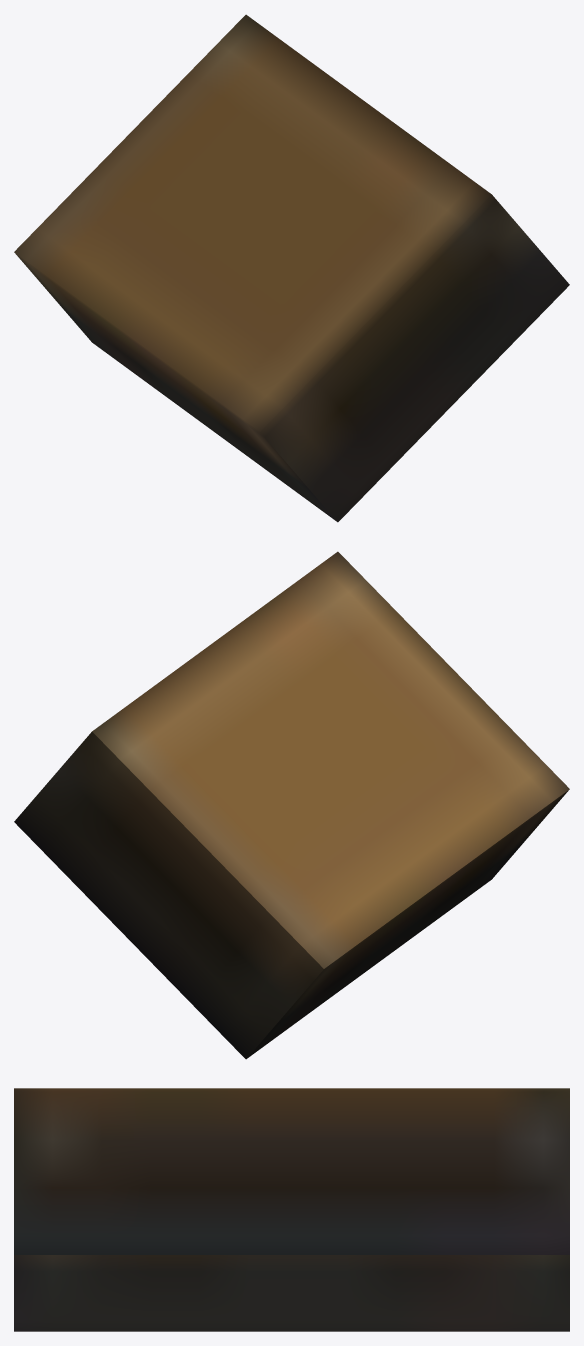
File: button_01.DAE
3 renders of one model, top to bottom at view 1: azimuth 30°, elevation 25°; view 2: azimuth 150°, elevation 25°; view 3: azimuth 270°, elevation 25°, orthographic. The views are drawn at different scales.
Visible parts, largest first — view 1: button_01; view 2: button_01; view 3: button_01.
Boxes of the visible parts, left/top/right/bottom form: button_01: left=14, top=14, right=569, bottom=522; button_01: left=14, top=551, right=569, bottom=1059; button_01: left=14, top=1088, right=569, bottom=1331.
Size of the model in its own units: 7.44 by 10.22 by 6.66.
